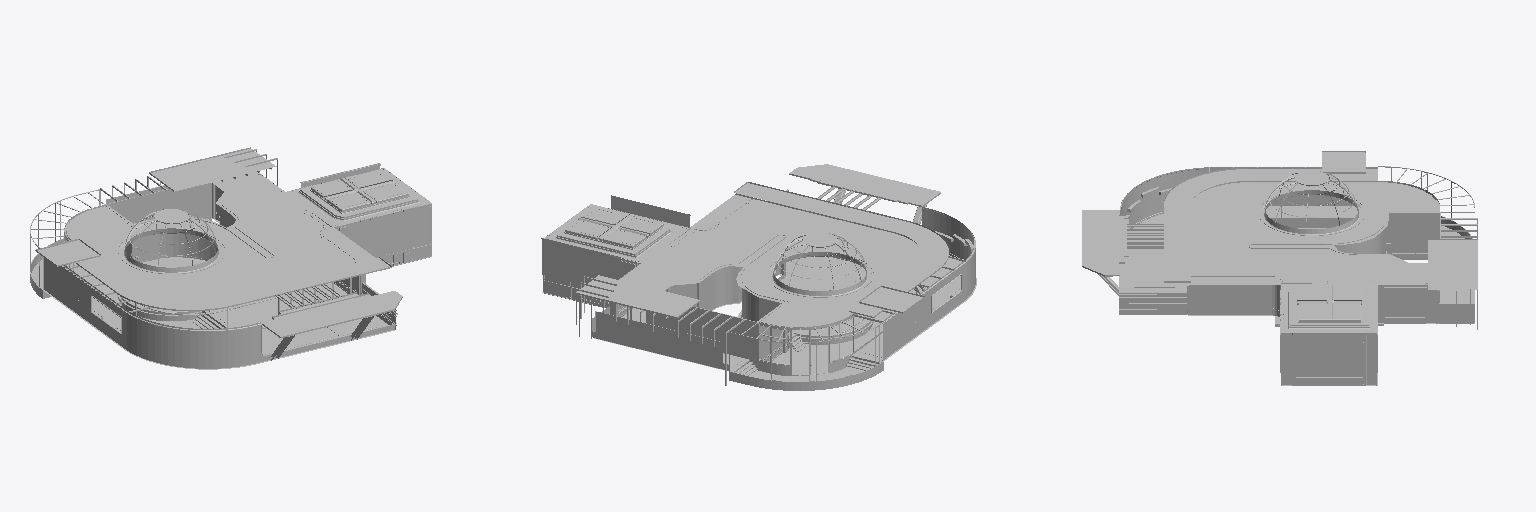
Rendered from parlor.obj.
3 renders of one model, left to right at view 1: azimuth 30°, elevation 25°; view 2: azimuth 150°, elevation 25°; view 3: azimuth 270°, elevation 25°, orthographic.
Visible parts, largest first — view 1: ceiling_Combined_Mesh_(root:_scene).003, main_Combined_Mesh_(root:_scene), theater_roof_Combined_Mesh_(root:_scene).002, floor_Combined_Mesh_(root:_scene).005, dome_Combined_Mesh_(root:_scene).001, carpet_main_Combined_Mesh_(root:_scene).009, framework_Combined_Mesh_(root:_scene).004, curved_wall_Combined_Mesh_(root:_scene).038; view 2: ceiling_Combined_Mesh_(root:_scene).003, main_Combined_Mesh_(root:_scene), floor_Combined_Mesh_(root:_scene).005, theater_roof_Combined_Mesh_(root:_scene).002, carpet_main_Combined_Mesh_(root:_scene).009, dome_Combined_Mesh_(root:_scene).001, framework_Combined_Mesh_(root:_scene).004; view 3: ceiling_Combined_Mesh_(root:_scene).003, main_Combined_Mesh_(root:_scene), theater_roof_Combined_Mesh_(root:_scene).002, floor_Combined_Mesh_(root:_scene).005, dome_Combined_Mesh_(root:_scene).001, framework_Combined_Mesh_(root:_scene).004.
Part boxes in pixels (x1,y1,x2,y2): ceiling_Combined_Mesh_(root:_scene).003: (35,147,402,337); main_Combined_Mesh_(root:_scene): (30,163,431,368); theater_roof_Combined_Mesh_(root:_scene).002: (286,168,431,226); floor_Combined_Mesh_(root:_scene).005: (31,218,431,369); dome_Combined_Mesh_(root:_scene).001: (118,209,224,273); carpet_main_Combined_Mesh_(root:_scene).009: (145,259,344,327); framework_Combined_Mesh_(root:_scene).004: (30,149,277,312); curved_wall_Combined_Mesh_(root:_scene).038: (160,233,217,257); ceiling_Combined_Mesh_(root:_scene).003: (575,164,948,327); main_Combined_Mesh_(root:_scene): (541,188,975,390); floor_Combined_Mesh_(root:_scene).005: (542,255,976,381); theater_roof_Combined_Mesh_(root:_scene).002: (545,204,688,262); carpet_main_Combined_Mesh_(root:_scene).009: (626,257,865,336); dome_Combined_Mesh_(root:_scene).001: (770,232,873,297); framework_Combined_Mesh_(root:_scene).004: (576,256,965,385); ceiling_Combined_Mesh_(root:_scene).003: (1082,151,1477,289); main_Combined_Mesh_(root:_scene): (1098,167,1474,385); theater_roof_Combined_Mesh_(root:_scene).002: (1281,285,1377,332); floor_Combined_Mesh_(root:_scene).005: (1121,206,1474,385); dome_Combined_Mesh_(root:_scene).001: (1260,171,1363,235); framework_Combined_Mesh_(root:_scene).004: (1209,166,1477,329).
Size of the model in its own units: 40 by 9.63 by 38.6.